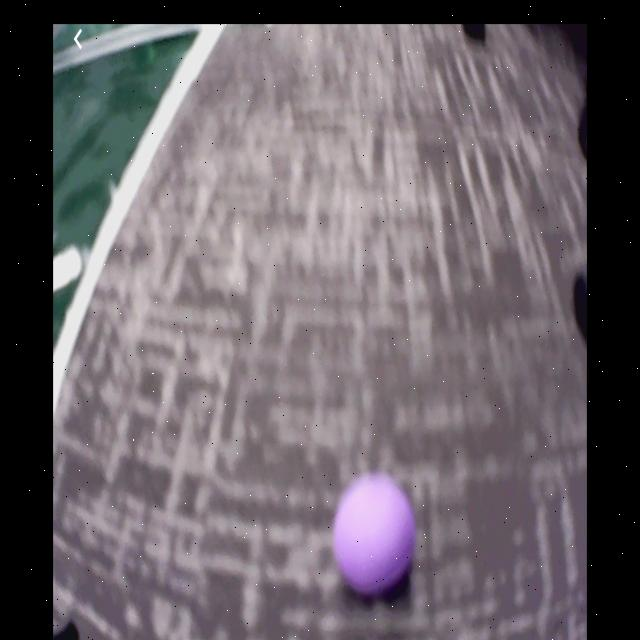ball: (336, 474, 415, 596)
